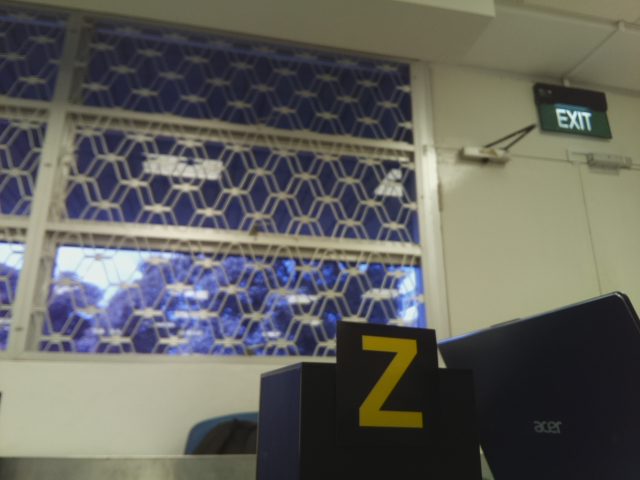z: (349, 331, 426, 436)
